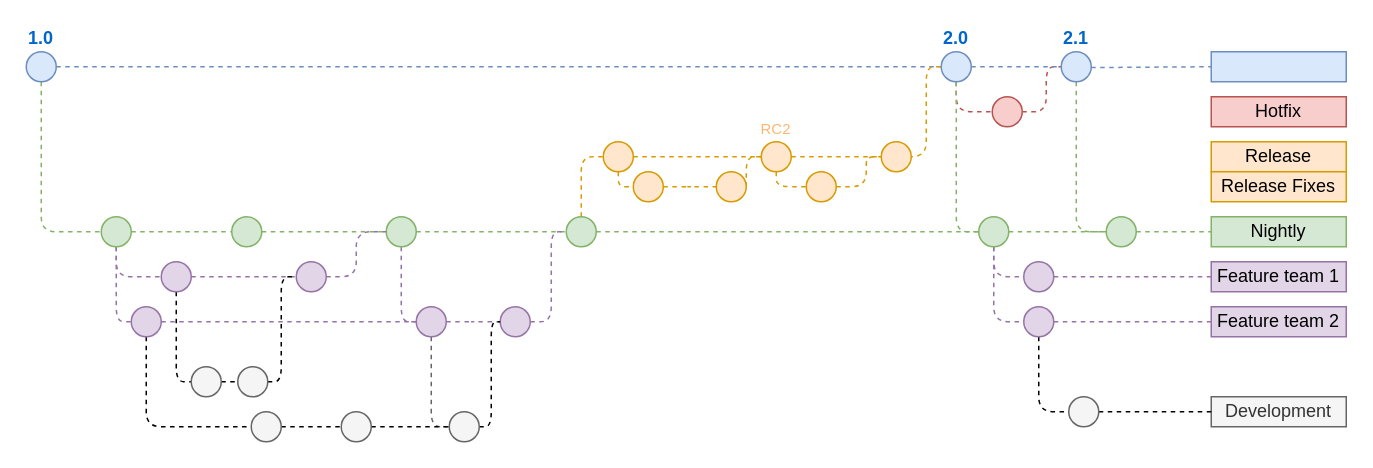
Some shapes in this 1373 by 468 pixel diagram are drawn without their labels. The shapes that lost their labels are listed below. From the top down, each one's box as (x1, y1, x2, y2) in pixels, then its label:
(1210, 50, 1346, 82): Main
(602, 140, 633, 172): RC1
(880, 140, 911, 172): RC3
